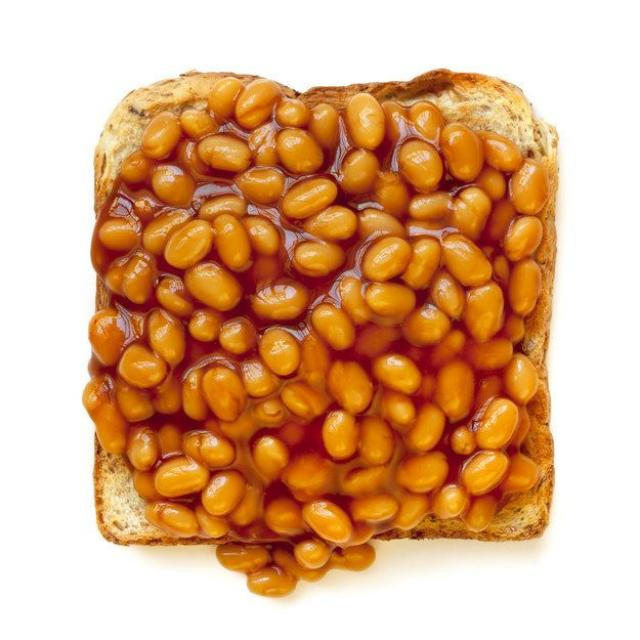beans: (83, 77, 550, 594), (82, 375, 127, 453), (185, 262, 242, 311), (442, 233, 492, 286), (441, 123, 484, 182), (327, 360, 372, 415), (201, 366, 246, 421), (435, 360, 475, 421), (464, 282, 503, 343), (251, 280, 309, 320), (164, 221, 212, 269), (235, 79, 281, 129), (399, 140, 443, 191), (509, 159, 549, 215), (155, 456, 209, 497), (282, 179, 337, 219), (476, 398, 519, 449), (460, 451, 509, 495), (362, 237, 411, 281), (282, 452, 332, 495), (303, 500, 353, 543), (346, 94, 385, 149), (147, 310, 186, 365), (212, 215, 250, 271), (89, 309, 127, 365), (451, 187, 491, 240), (277, 128, 323, 174), (118, 345, 166, 389), (143, 210, 191, 254), (396, 452, 448, 492), (402, 238, 441, 289), (312, 304, 355, 350), (198, 135, 250, 173), (259, 328, 301, 375), (402, 305, 450, 346), (365, 282, 415, 321), (145, 501, 199, 537), (202, 471, 245, 516), (372, 354, 420, 394), (292, 241, 345, 277), (273, 547, 329, 581), (338, 149, 379, 195), (508, 259, 541, 316), (406, 404, 445, 452), (183, 432, 235, 468), (281, 381, 329, 420), (304, 206, 358, 240), (122, 250, 155, 304), (358, 416, 395, 464), (236, 167, 284, 204), (152, 165, 195, 206), (503, 217, 542, 262), (143, 112, 181, 158), (504, 354, 538, 405), (322, 411, 358, 459), (115, 378, 154, 421), (481, 133, 522, 173), (374, 172, 410, 217), (252, 436, 288, 481), (217, 543, 270, 573), (355, 324, 401, 358), (500, 453, 540, 492), (431, 272, 464, 319), (338, 276, 370, 324), (301, 331, 330, 383), (242, 216, 280, 255), (265, 498, 305, 535), (208, 77, 243, 119), (468, 338, 513, 370), (409, 102, 444, 143), (229, 485, 263, 527), (359, 208, 405, 239), (247, 567, 296, 596), (351, 494, 399, 523), (341, 466, 387, 496), (242, 359, 278, 397), (247, 122, 278, 165), (379, 390, 415, 427), (393, 493, 429, 530), (219, 318, 255, 355), (486, 199, 516, 243), (198, 194, 246, 221), (99, 218, 138, 251), (309, 104, 338, 148), (432, 329, 465, 367), (183, 369, 208, 419), (409, 192, 453, 220), (462, 496, 497, 531), (432, 485, 468, 519), (330, 544, 374, 571), (180, 109, 219, 139), (152, 374, 181, 414), (195, 505, 230, 538), (178, 140, 208, 178), (381, 101, 408, 143), (120, 151, 154, 184), (188, 310, 223, 342), (475, 166, 506, 201), (294, 539, 330, 569), (475, 375, 502, 413), (252, 398, 286, 427), (275, 99, 311, 126), (133, 469, 161, 502), (157, 423, 182, 457), (133, 194, 160, 222), (450, 426, 476, 455), (512, 407, 530, 446), (504, 314, 525, 344), (493, 254, 509, 284)
sliced bread: (275, 69, 558, 541), (95, 72, 261, 212), (95, 440, 212, 545)
